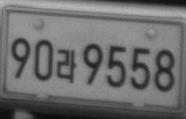0: (34, 39, 53, 80)
5: (129, 46, 150, 89), (106, 45, 126, 87)
8: (154, 48, 175, 92)
9: (82, 42, 103, 84), (10, 37, 31, 78)
라: (56, 48, 78, 84)
